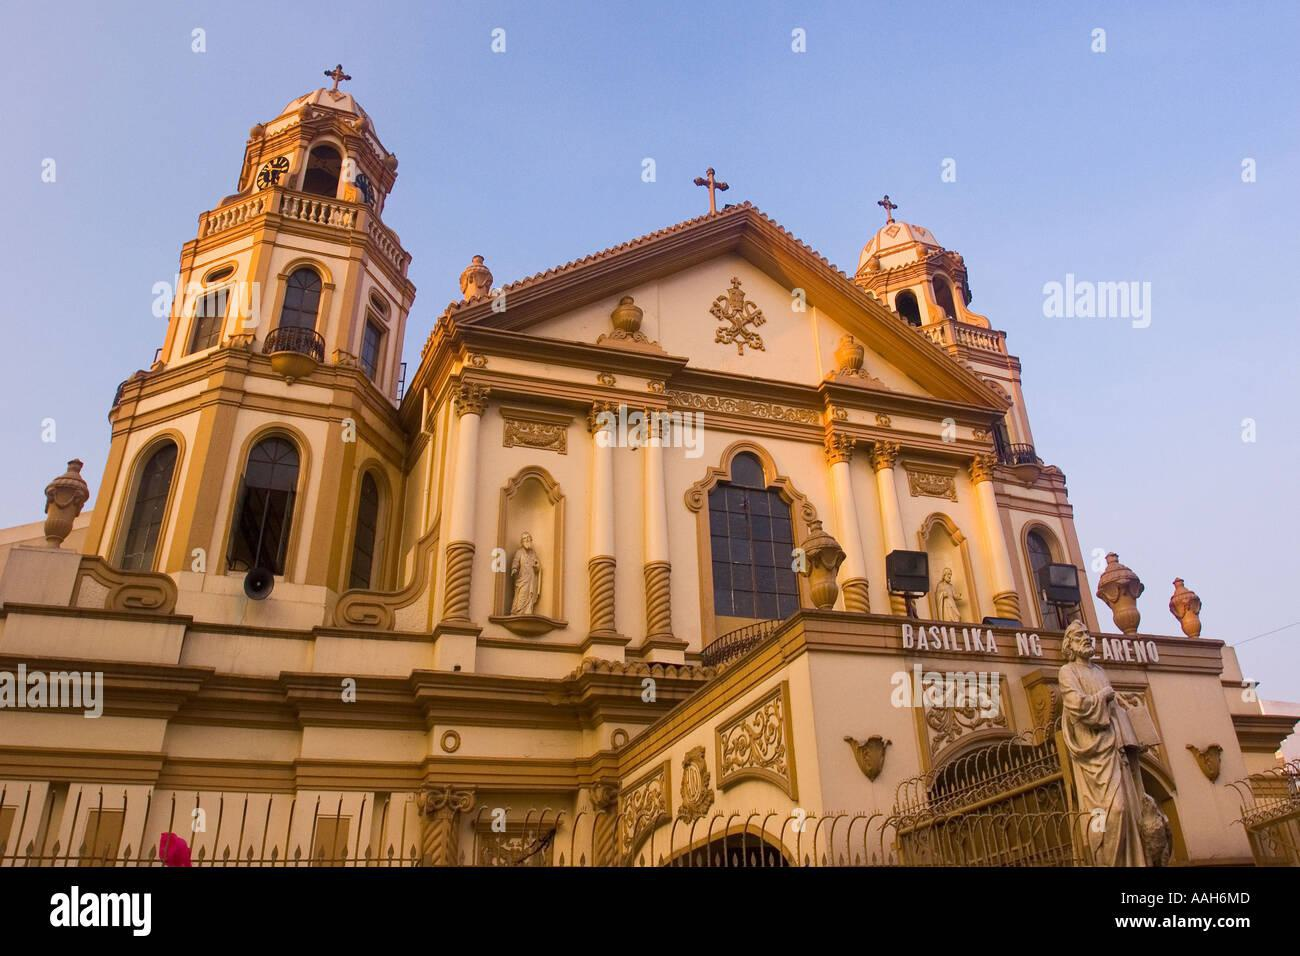quiapo_church_quiapo_manila: (50, 45, 1132, 864)
